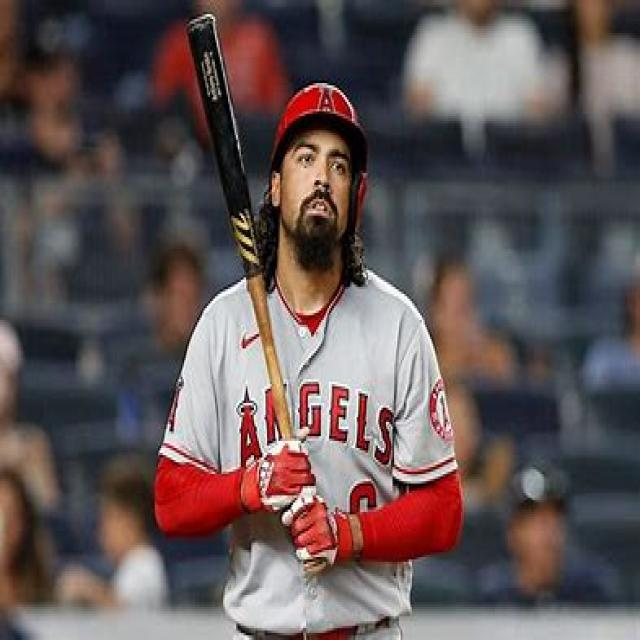bat: (176, 7, 332, 584)
